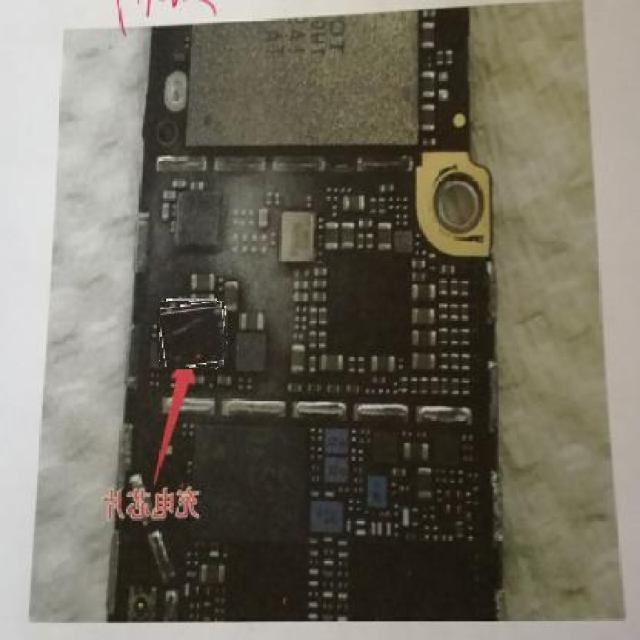damged: (159, 302, 224, 367)
